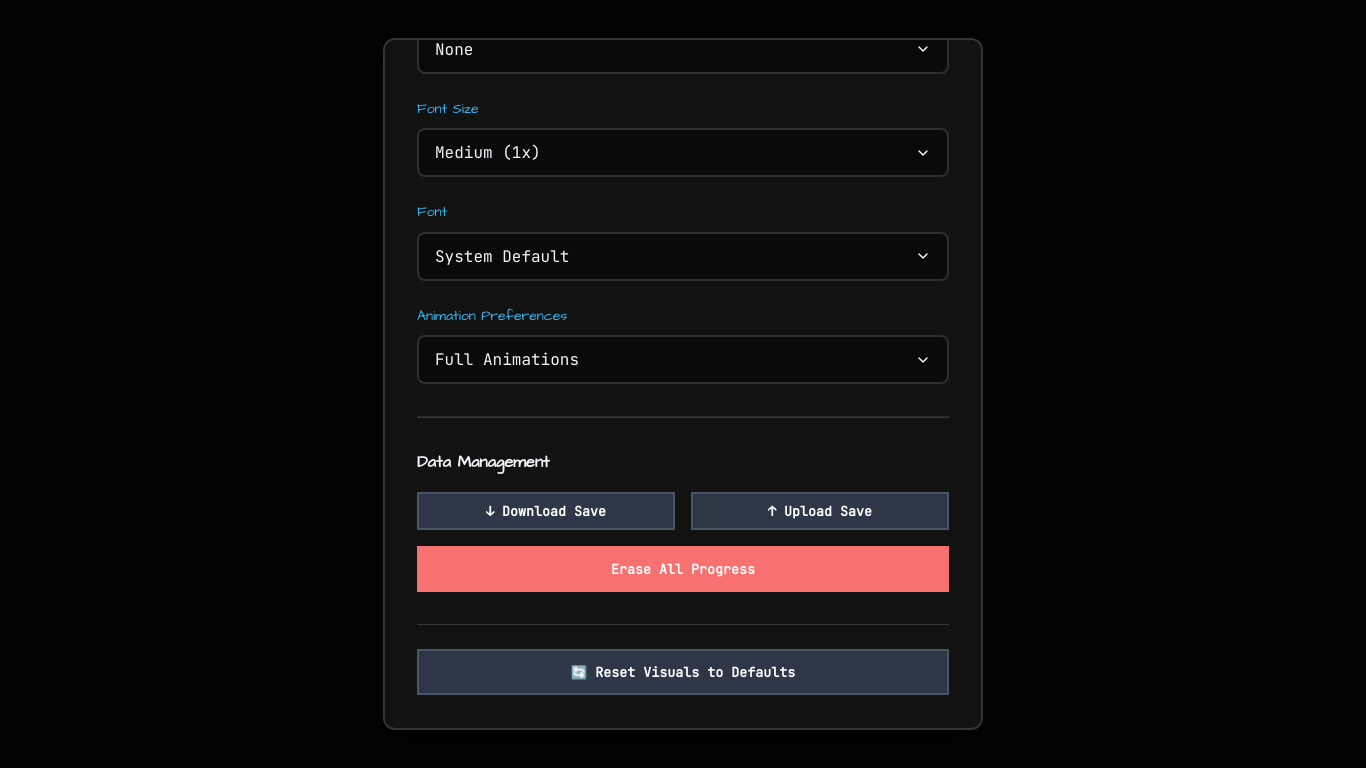
SettingsPanel - extended interactions › shows confirm/cancel reset buttons when Reset button is clicked
(page scrolled)
Click the button "🔄 Reset Visuals to Defaults". click: {"x": 683, "y": 672}
box: [417,649,949,695]
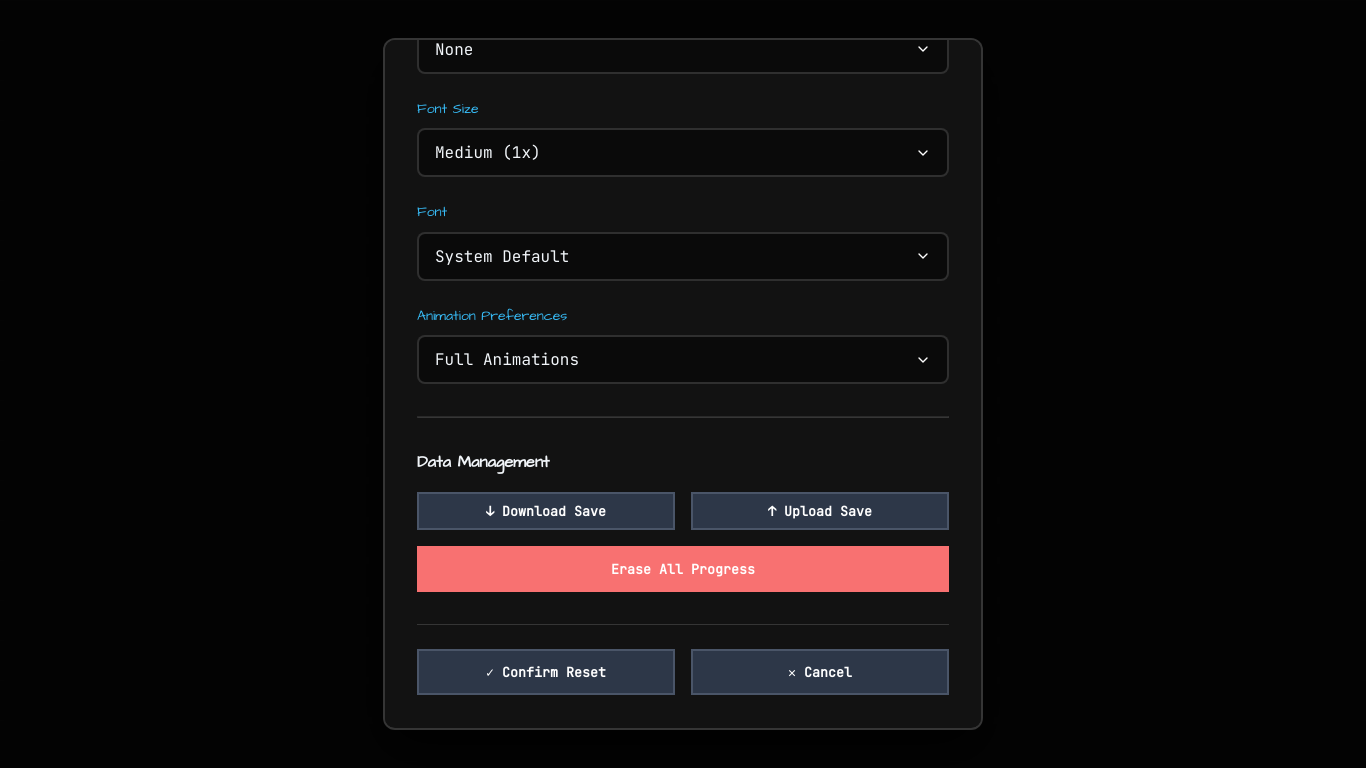
Expected: the button "✓ Confirm Reset" is shown, [417,649,675,695]
Expected: the button "✕ Cancel" is shown, [691,649,949,695]
